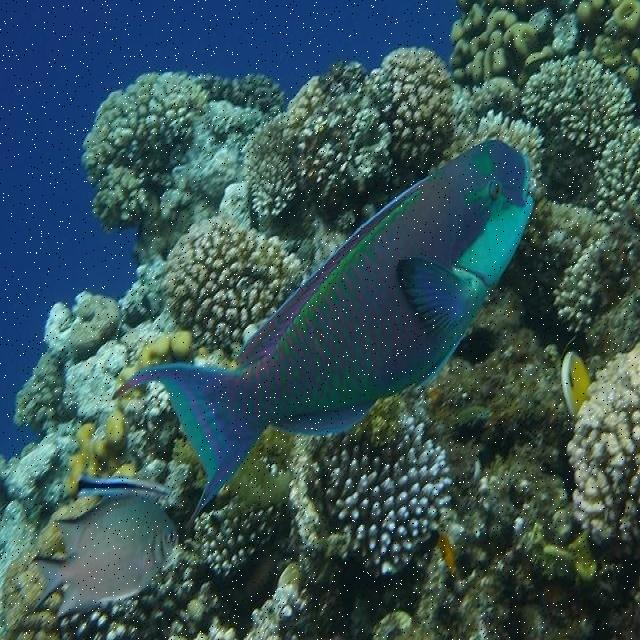fish: (112, 138, 532, 518), (28, 497, 177, 622), (78, 476, 169, 499), (561, 351, 590, 414)
reefs: (243, 45, 544, 219), (520, 54, 639, 334), (81, 72, 287, 231), (315, 419, 456, 572), (161, 214, 302, 351), (567, 348, 639, 541), (200, 495, 281, 578)
